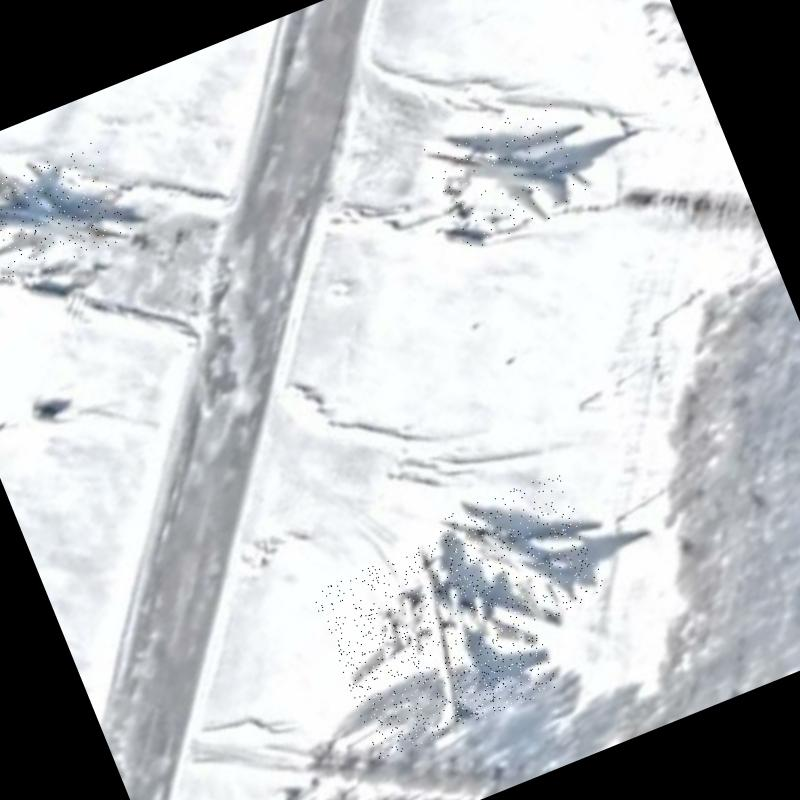A12: (435, 469, 610, 644), (420, 97, 593, 253), (0, 139, 133, 288)
A17: (310, 517, 561, 760)
